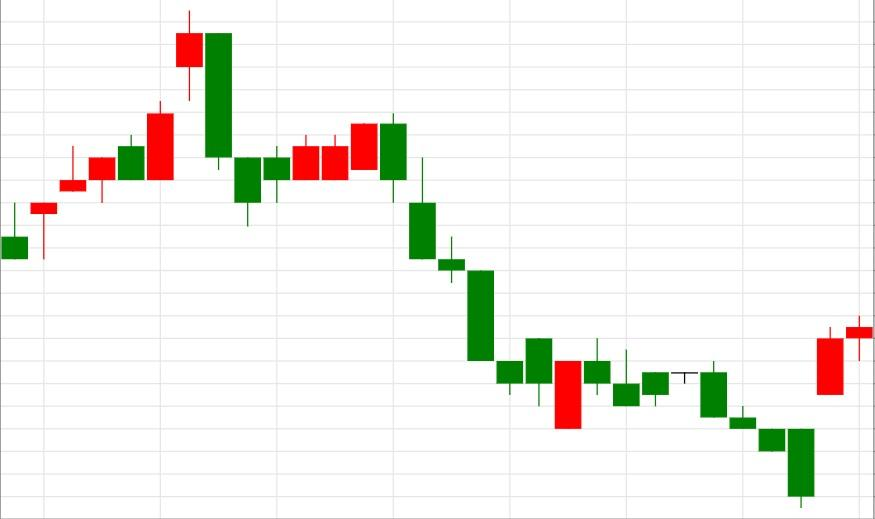bearish_engulfing_fall: (233, 112, 408, 227)
